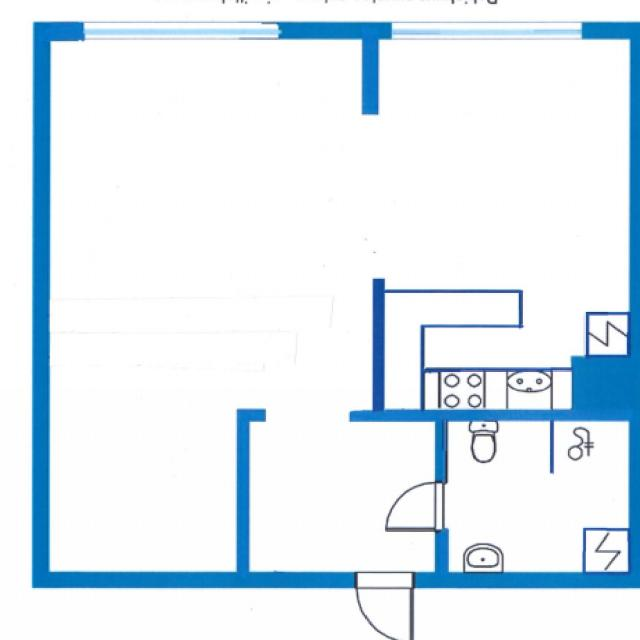door: (357, 572, 413, 640), (387, 482, 448, 529)
